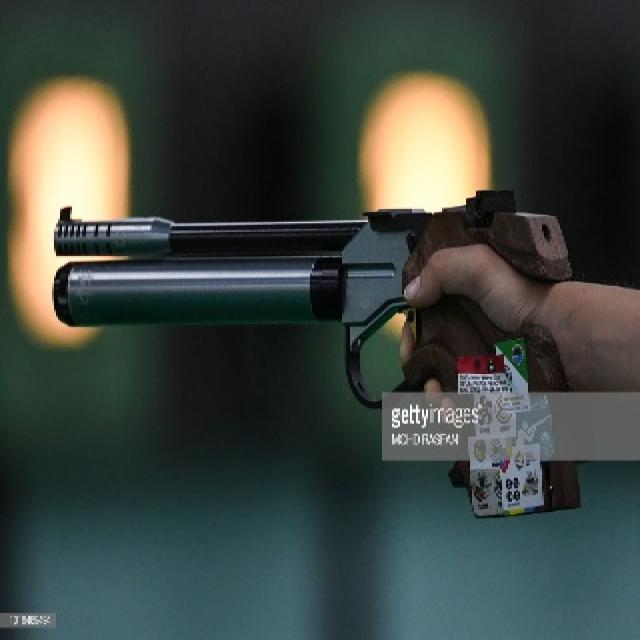handgun: (45, 190, 585, 515)
